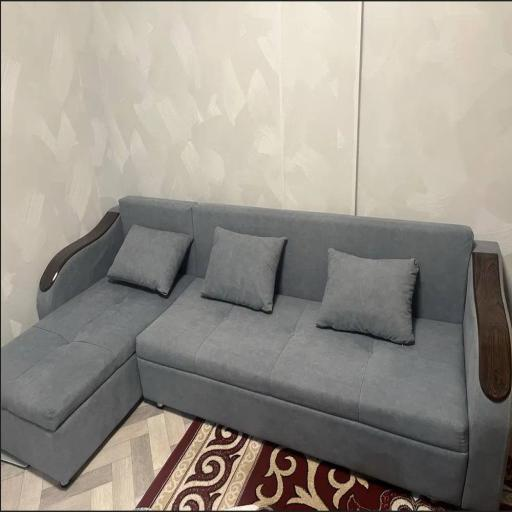hole: (1, 197, 511, 509)
